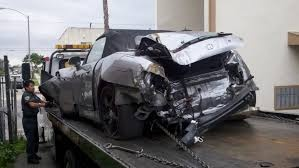Smashed: (101, 33, 255, 145)
